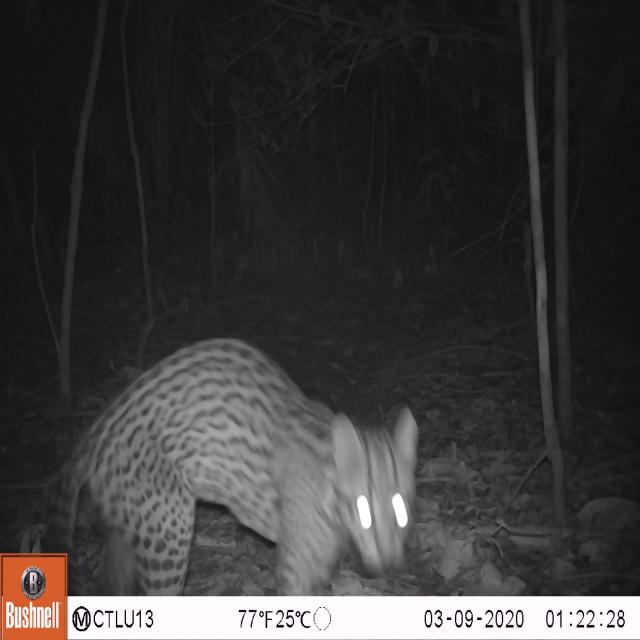Ocelote: (38, 314, 424, 596)
